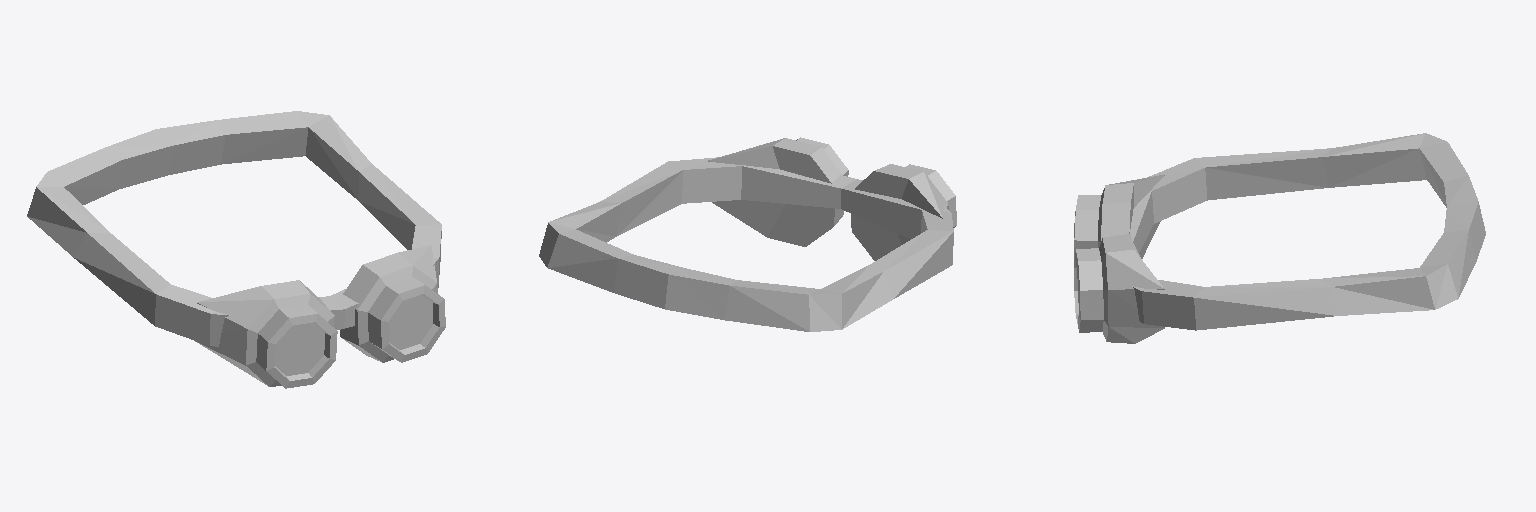
File: SM_Chr_Attach_Blacksmith_Male_Goggles_02.obj
The picture shows the model from 3 angles: view 1: azimuth 30°, elevation 25°; view 2: azimuth 150°, elevation 25°; view 3: azimuth 270°, elevation 25°; orthographic projection.
Visible parts, largest first — view 1: SM_Chr_Attach_Blacksmith_Male_Goggles_02; view 2: SM_Chr_Attach_Blacksmith_Male_Goggles_02; view 3: SM_Chr_Attach_Blacksmith_Male_Goggles_02.
Part boxes in pixels (left/top/right/bottom): SM_Chr_Attach_Blacksmith_Male_Goggles_02: left=27, top=111, right=445, bottom=388; SM_Chr_Attach_Blacksmith_Male_Goggles_02: left=539, top=137, right=956, bottom=331; SM_Chr_Attach_Blacksmith_Male_Goggles_02: left=1074, top=133, right=1485, bottom=343.
Bounding box in the file's own units: 26.05 × 8.78 × 30.24.